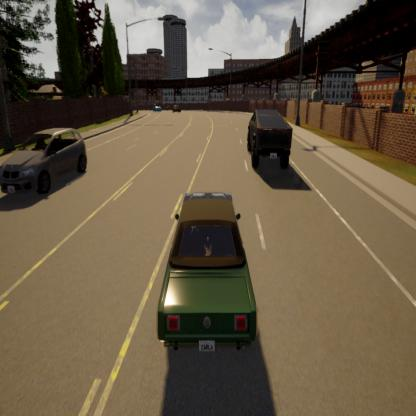Cars: (154, 187, 264, 355), (0, 122, 98, 210), (243, 108, 297, 176), (171, 102, 183, 116), (152, 102, 162, 115)
